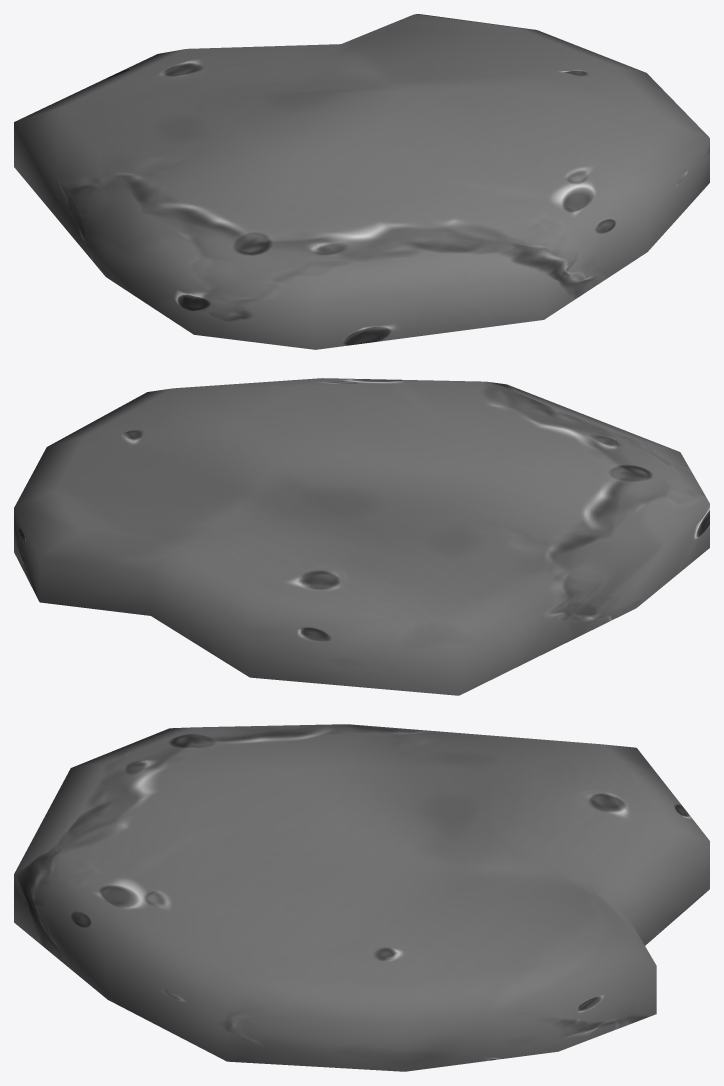
Rendered from SM_PROP_stone_01.fbx.
The picture shows the model from 3 angles, top to bottom: view 1: azimuth 30°, elevation 25°; view 2: azimuth 150°, elevation 25°; view 3: azimuth 270°, elevation 25°; orthographic projection. The views are drawn at different scales.
Parts seen in each view (by area): view 1: SM_PROP_stone_01; view 2: SM_PROP_stone_01; view 3: SM_PROP_stone_01.
Part boxes in pixels (x1,y1,x2,y2): SM_PROP_stone_01: (14, 14, 709, 349); SM_PROP_stone_01: (14, 378, 709, 695); SM_PROP_stone_01: (14, 724, 709, 1071).
Size of the model in its own units: 182 by 26.94 by 179.
